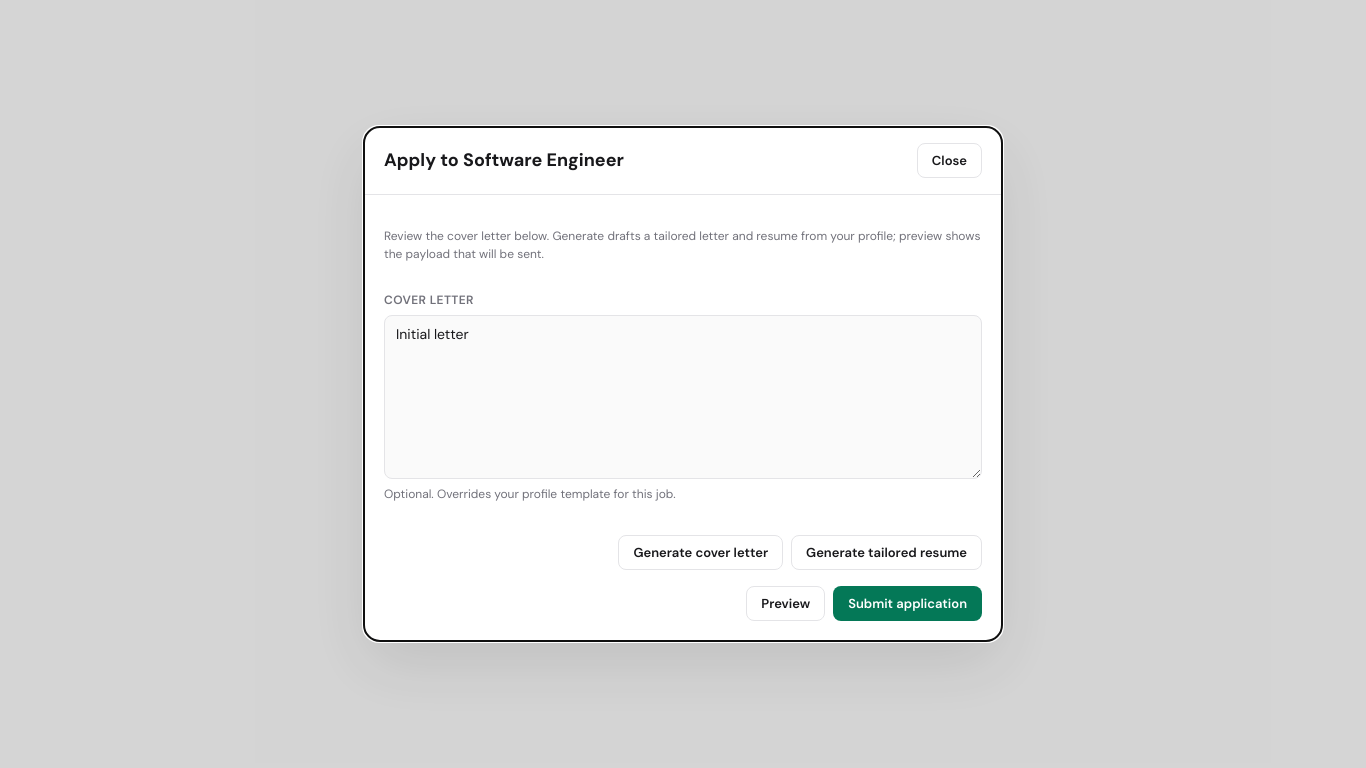
ApplyJobDialog apply flow › polls a queued application to success
Step 1. Click the button "Submit application" → [908, 604], box [833,586,982,621]
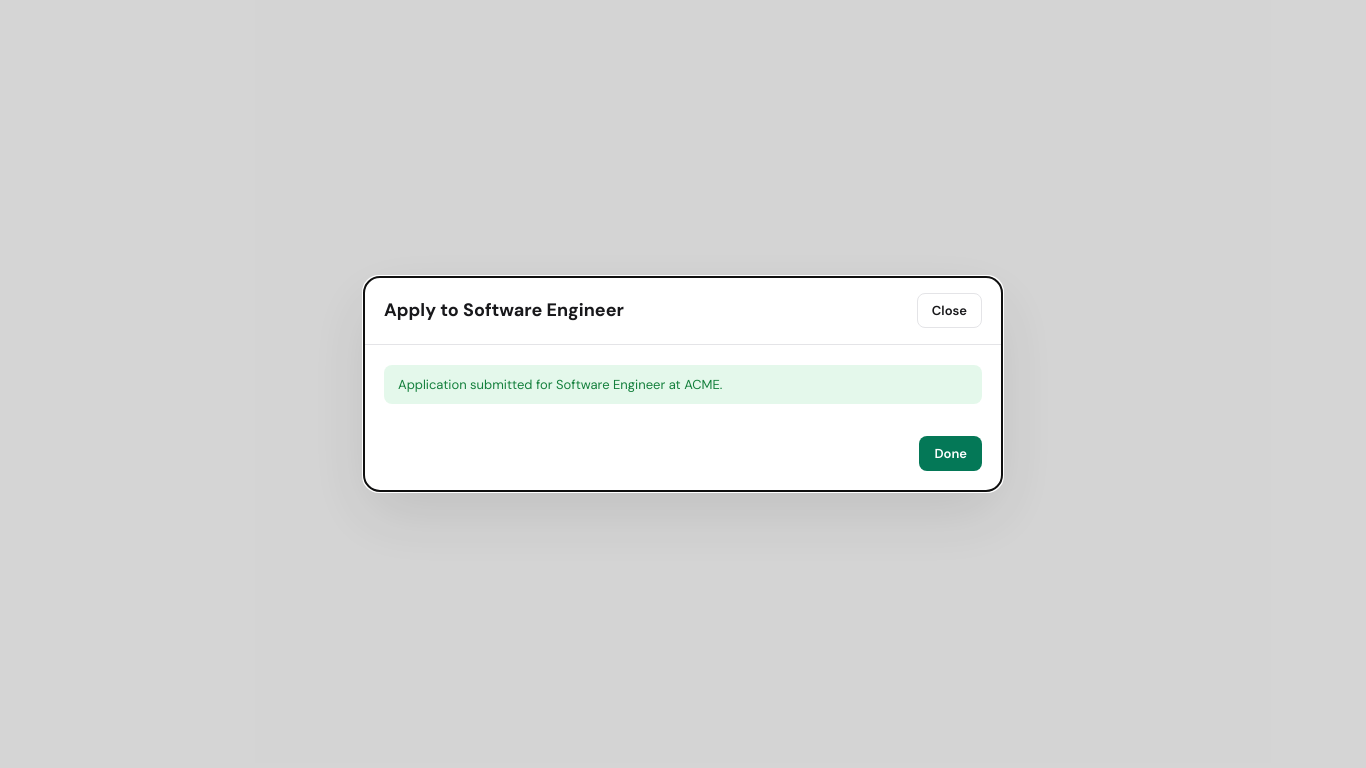
Now the text "Application submitted for Software Engineer at ACME." is shown, box [398,376,722,393]
